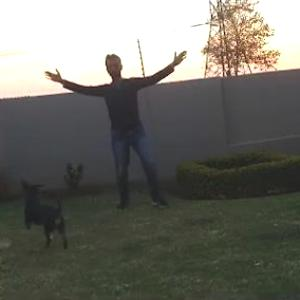takeoff: (59, 45, 210, 215)
